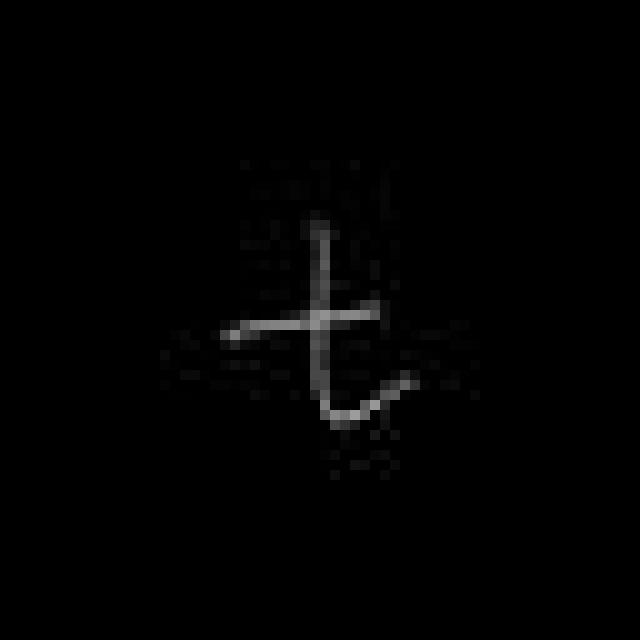7 -seven-: (224, 218, 422, 429)
